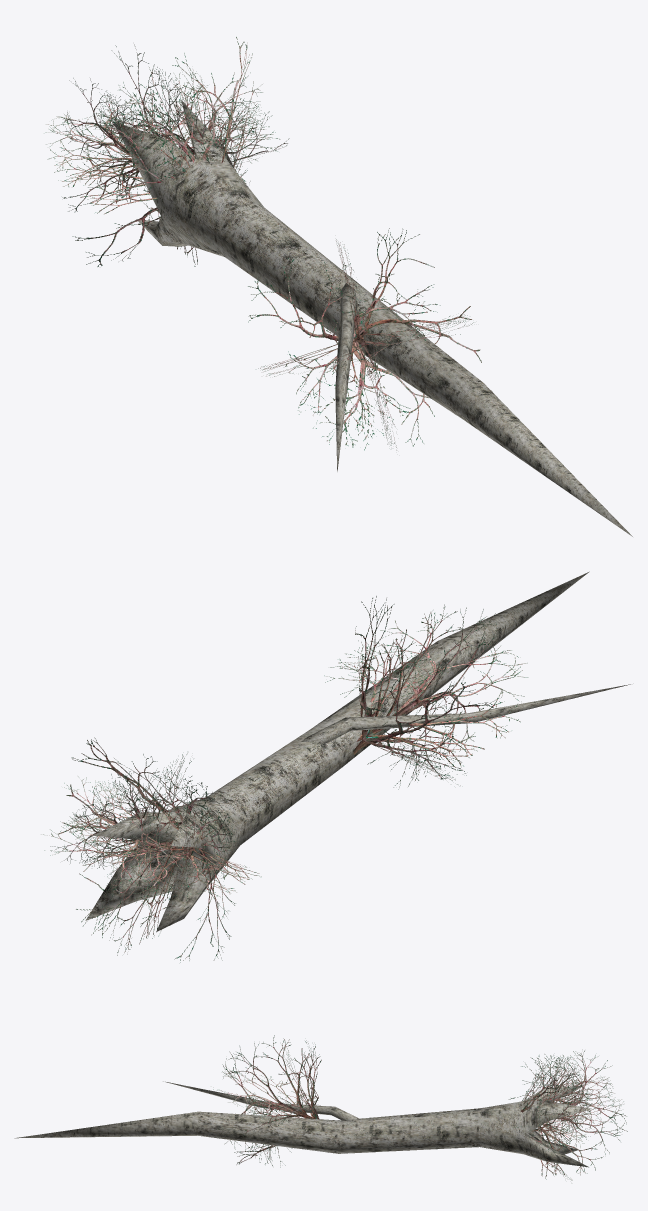
The model's file is decd_whitebirchlog_lg_l0.fbx.
The picture shows the model from 3 angles, top to bottom: view 1: azimuth 30°, elevation 25°; view 2: azimuth 150°, elevation 25°; view 3: azimuth 270°, elevation 25°; orthographic projection. The views are drawn at different scales.
Parts seen in each view (by area): view 1: mesh_node; view 2: mesh_node; view 3: mesh_node.
Boxes of the visible parts, box(x1,y1,x2,y2) form: mesh_node: box(44, 37, 632, 536); mesh_node: box(41, 571, 630, 962); mesh_node: box(14, 1035, 627, 1180).
Size of the model in its own units: 4.59 by 3.91 by 14.68.
